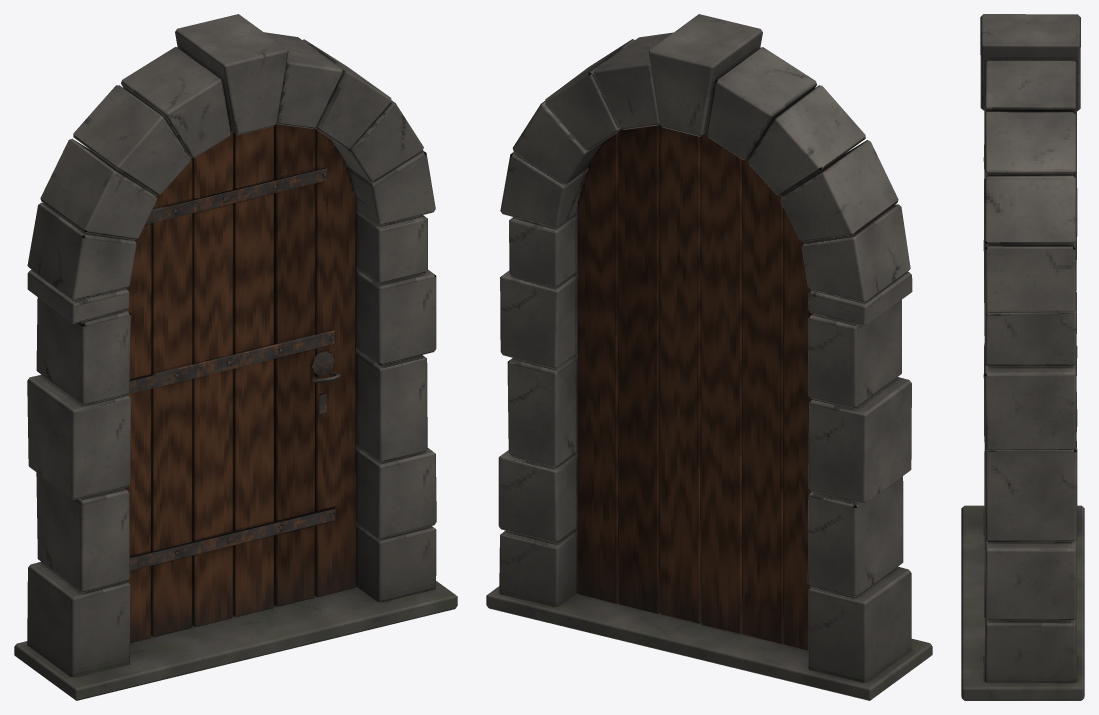
The model's file is door.glb.
3 views of the same model, side by side, from view 1: azimuth 30°, elevation 25°; view 2: azimuth 150°, elevation 25°; view 3: azimuth 270°, elevation 25° (orthographic). The views are drawn at different scales.
Visible parts, largest first — view 1: DoorFrame, DoorLeaf; view 2: DoorFrame, DoorLeaf; view 3: DoorFrame.
Boxes of the visible parts, x1=… form: DoorFrame: x1=14, y1=14, x2=457, y2=700; DoorLeaf: x1=124, y1=123, x2=356, y2=642; DoorFrame: x1=486, y1=14, x2=932, y2=700; DoorLeaf: x1=577, y1=124, x2=813, y2=650; DoorFrame: x1=961, y1=14, x2=1084, y2=700.
Bounding box in the file's own units: 1.7 × 2.51 × 0.4835.
1 material, 1 textured.
